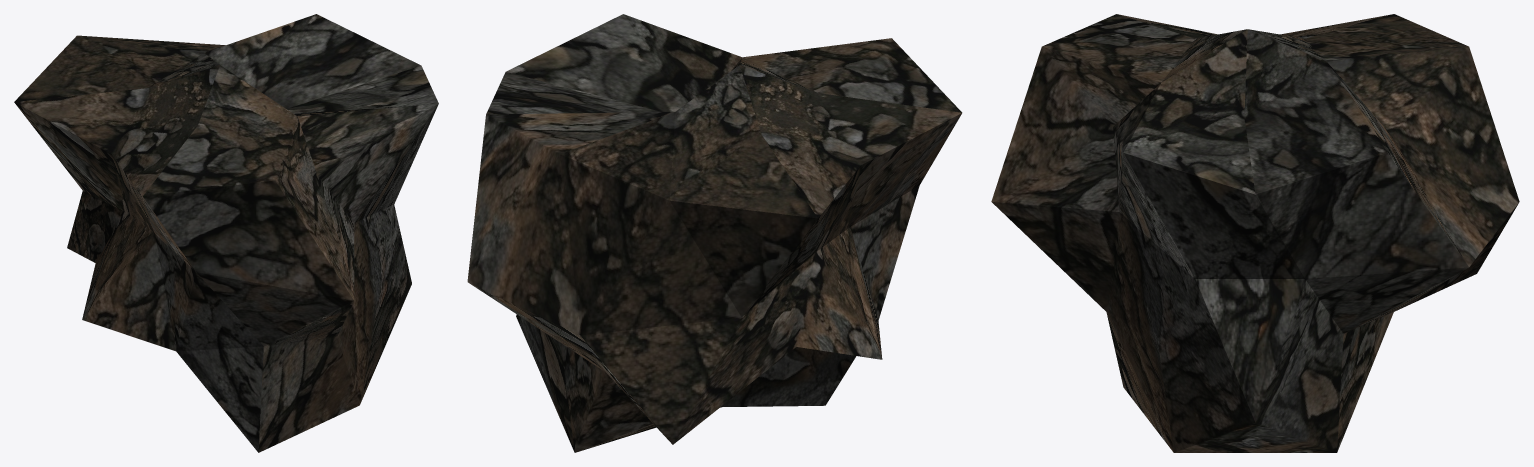
Rendered from escombro1.obj.
The picture shows the model from 3 angles, left to right: view 1: azimuth 30°, elevation 25°; view 2: azimuth 150°, elevation 25°; view 3: azimuth 270°, elevation 25°; orthographic projection. The views are drawn at different scales.
Parts seen in each view (by area): view 1: Icosphere; view 2: Icosphere; view 3: Icosphere.
Part boxes in pixels (x1=…): Icosphere: x1=14, y1=14, x2=438, y2=452; Icosphere: x1=467, y1=14, x2=962, y2=452; Icosphere: x1=991, y1=14, x2=1519, y2=452.
Size of the model in its own units: 1.62 by 1.54 by 2.
Materials: 1 (1 with a texture image).
